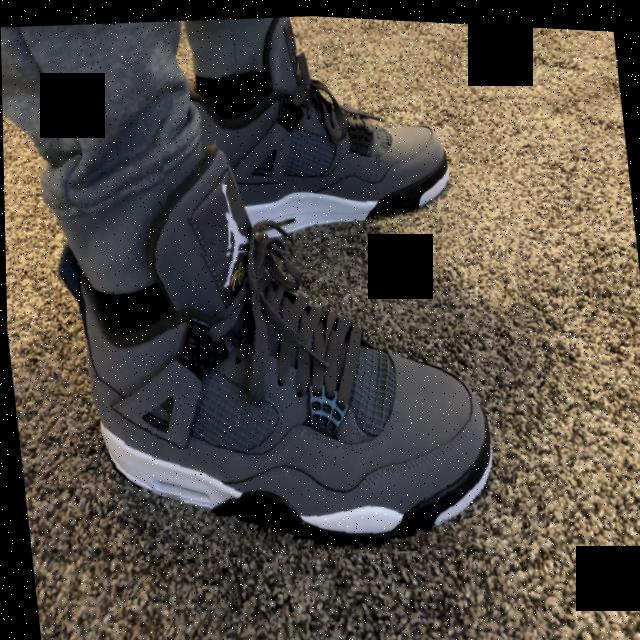shoe: (35, 96, 555, 581), (146, 6, 468, 264)
